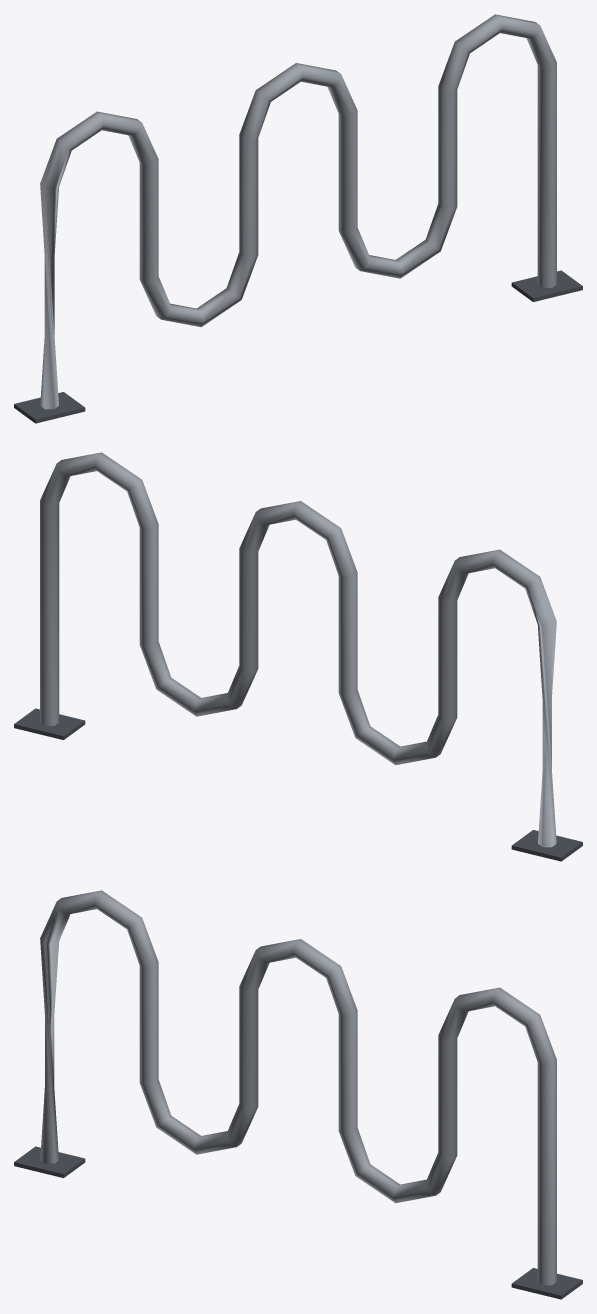
The model's file is prop_bike_rack.glb.
The picture shows the model from 3 angles, top to bottom: view 1: azimuth 30°, elevation 25°; view 2: azimuth 150°, elevation 25°; view 3: azimuth 330°, elevation 25°; orthographic projection.
Parts seen in each view (by area): view 1: prop_bike_rack__mesh; view 2: prop_bike_rack__mesh; view 3: prop_bike_rack__mesh.
Part boxes in pixels (x1,y1,x2,y2): prop_bike_rack__mesh: (14, 14, 582, 423); prop_bike_rack__mesh: (14, 452, 582, 861); prop_bike_rack__mesh: (14, 890, 582, 1299).
Bounding box in the file's own units: 1.76 × 0.8734 × 0.12.
1 material, 1 textured.
